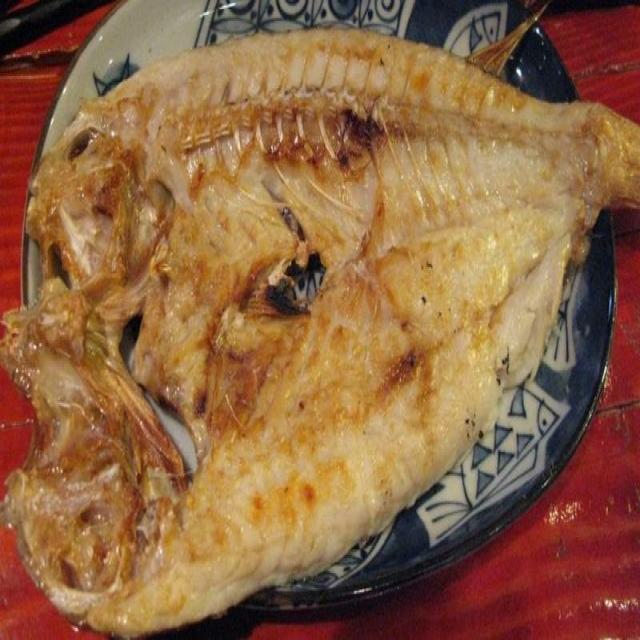熟制海鲜: (0, 27, 640, 640)
